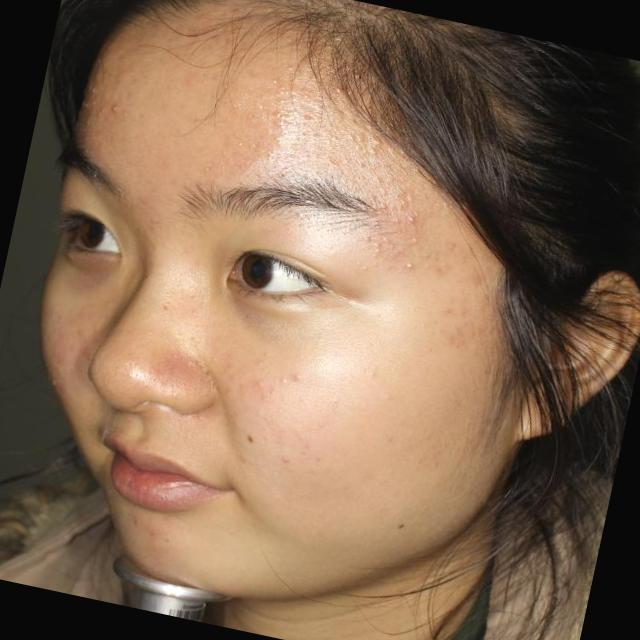acne: (42, 372, 67, 392), (101, 100, 132, 116)
